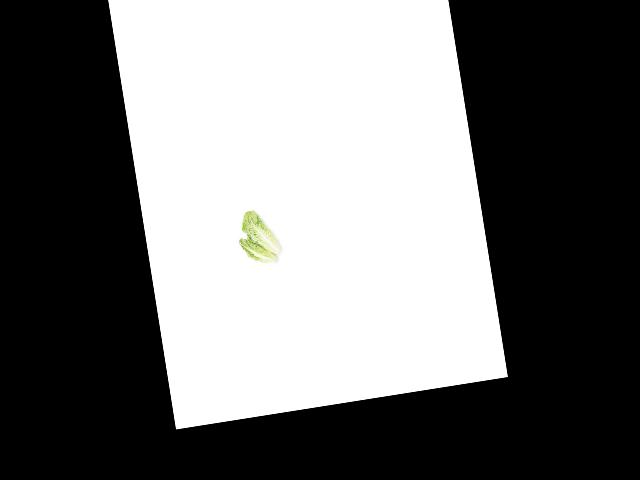lettuce: (237, 206, 284, 256)
